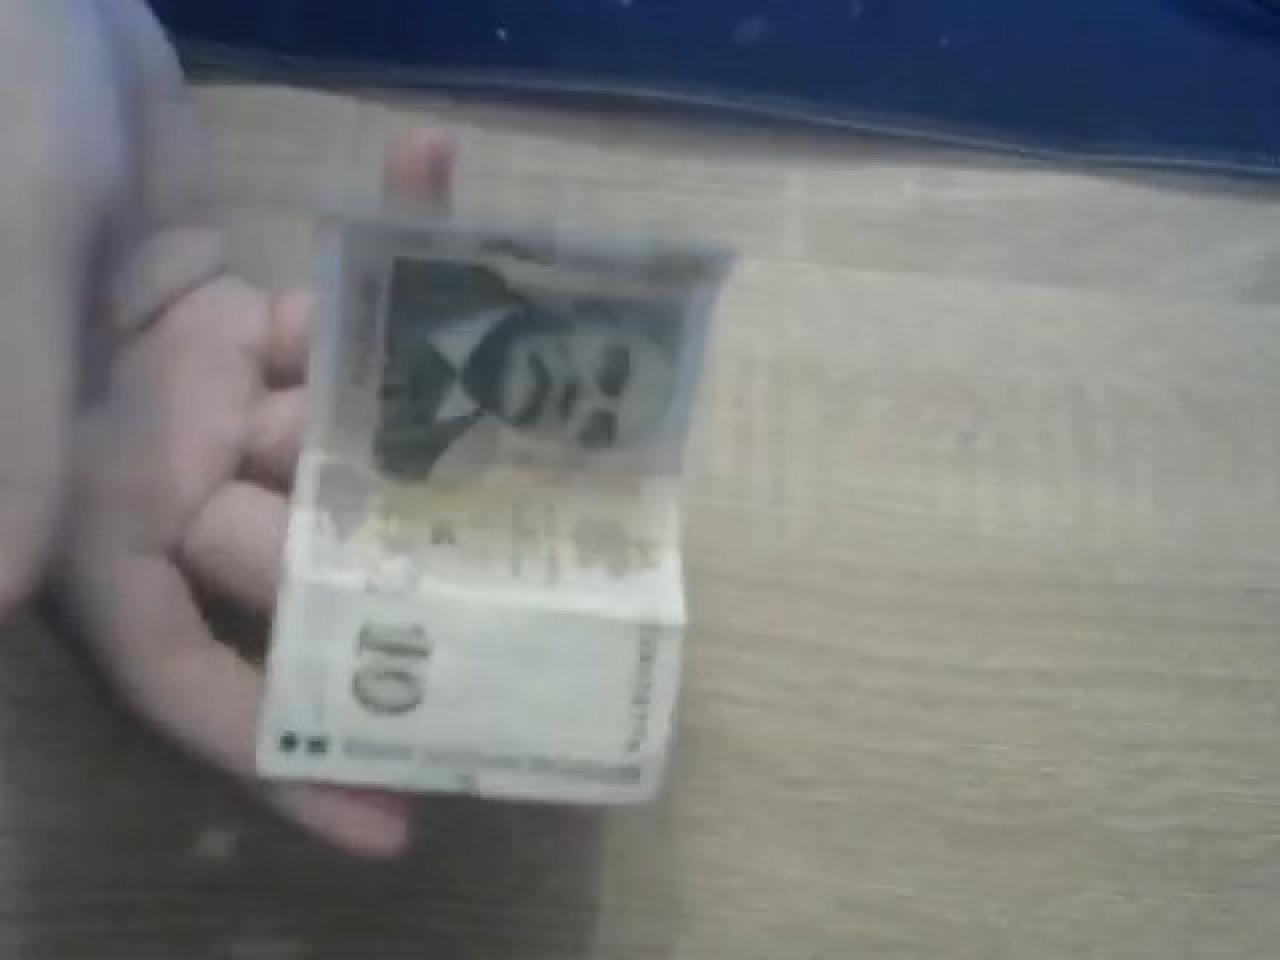10leva: (248, 216, 739, 814)
